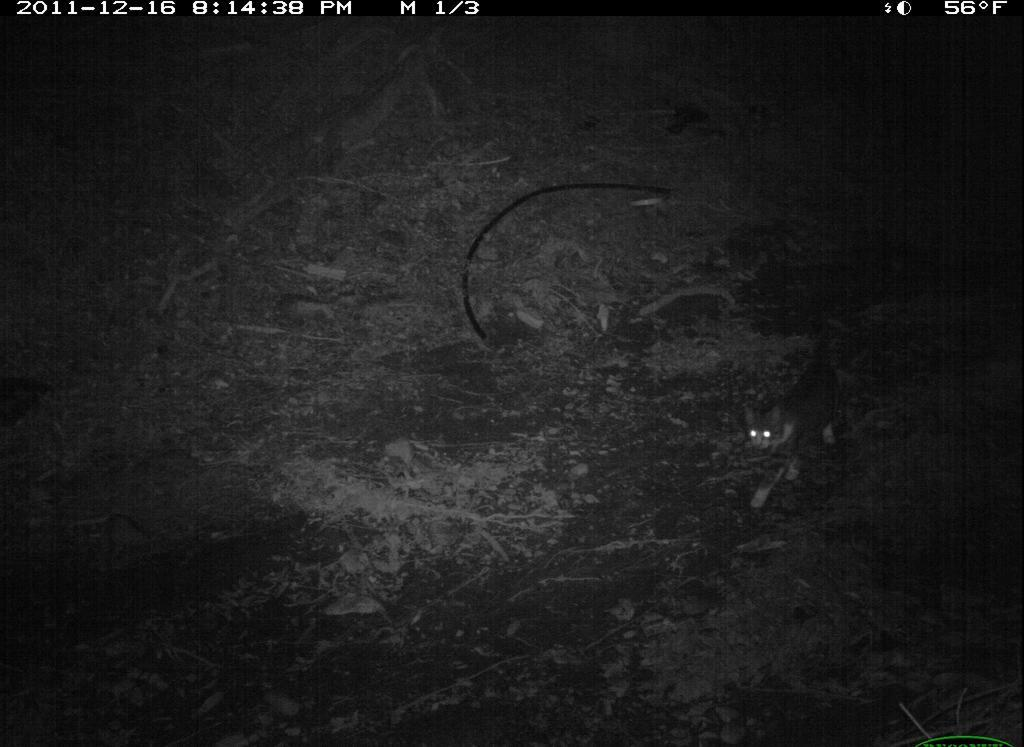cat: (730, 308, 857, 515)
